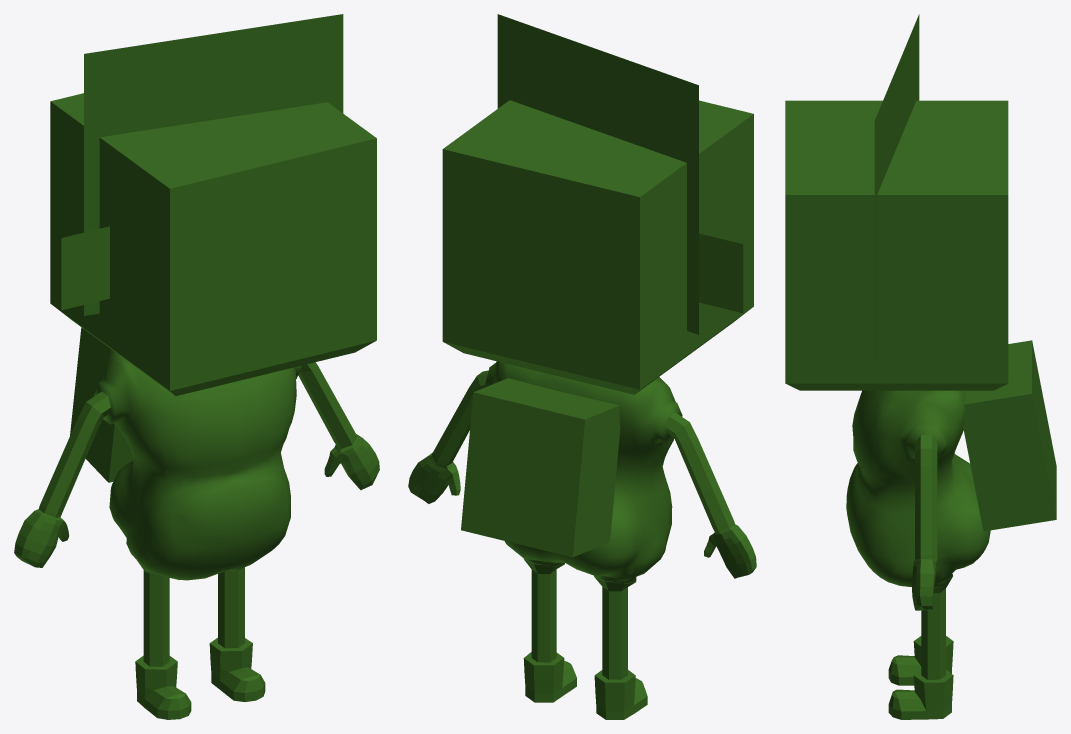
Rendered from Complete_MainCh.fbx.
3 renders of one model, left to right at view 1: azimuth 30°, elevation 25°; view 2: azimuth 150°, elevation 25°; view 3: azimuth 270°, elevation 25°, orthographic. The views are drawn at different scales.
Parts seen in each view (by area): view 1: CharacterHead_Edit001, BoxBody_VEd001, Hair_MainCh, ArmL, LegL, LegR, ArmR, Bag_ChM, EarPiece; view 2: CharacterHead_Edit001, Bag_ChM, Hair_MainCh, BoxBody_VEd001, LegL, LegR, ArmL, ArmR, EarPieceB; view 3: CharacterHead_Edit001, BoxBody_VEd001, Bag_ChM, Hair_MainCh, LegR, ArmR, LegL.
Boxes of the visible parts, left/top/right/bottom form: CharacterHead_Edit001: left=50, top=93, right=376, bottom=395; BoxBody_VEd001: left=94, top=349, right=301, bottom=580; Hair_MainCh: left=84, top=14, right=343, bottom=315; ArmL: left=14, top=391, right=110, bottom=567; LegL: left=135, top=560, right=191, bottom=719; LegR: left=209, top=567, right=265, bottom=701; ArmR: left=298, top=362, right=379, bottom=490; Bag_ChM: left=70, top=327, right=132, bottom=482; EarPiece: left=61, top=226, right=109, bottom=310; CharacterHead_Edit001: left=442, top=100, right=753, bottom=394; Bag_ChM: left=461, top=378, right=620, bottom=557; Hair_MainCh: left=497, top=14, right=698, bottom=334; BoxBody_VEd001: left=484, top=361, right=682, bottom=583; LegL: left=594, top=576, right=647, bottom=719; LegR: left=523, top=559, right=576, bottom=702; ArmL: left=666, top=412, right=756, bottom=578; ArmR: left=408, top=370, right=488, bottom=503; EarPieceB: left=699, top=233, right=743, bottom=312; CharacterHead_Edit001: left=785, top=100, right=1008, bottom=390; BoxBody_VEd001: left=846, top=390, right=990, bottom=587; Bag_ChM: left=963, top=340, right=1056, bottom=531; Hair_MainCh: left=874, top=14, right=919, bottom=364; LegR: left=888, top=576, right=953, bottom=719; ArmR: left=912, top=435, right=937, bottom=610; LegL: left=888, top=636, right=953, bottom=685.
Size of the model in its own units: 52.35 by 93.14 by 36.49.
